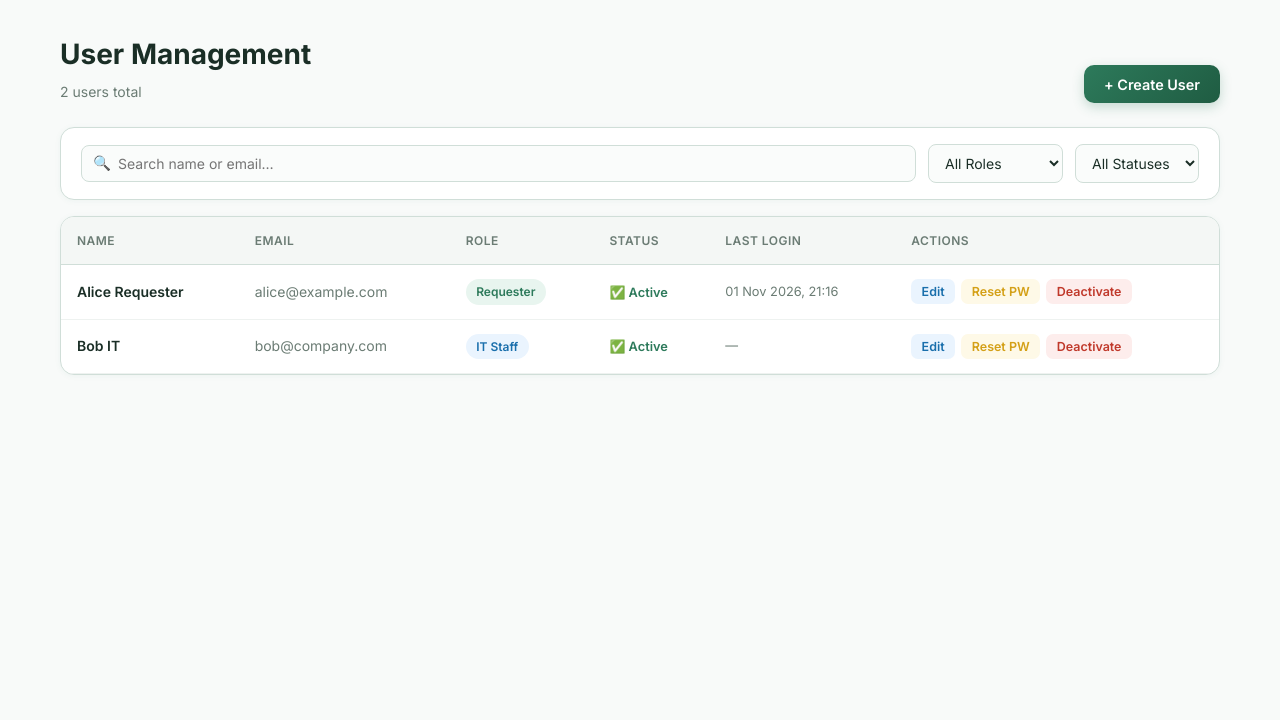
Test: AdminUsersPage (UI-10..UI-12) › UI-11: clicking + Create User opens the modal
Expected: the text "Alice Requester" is shown, [77,282,184,300]
Click the button "+ Create User": (1152,84) [1084,65,1220,103]
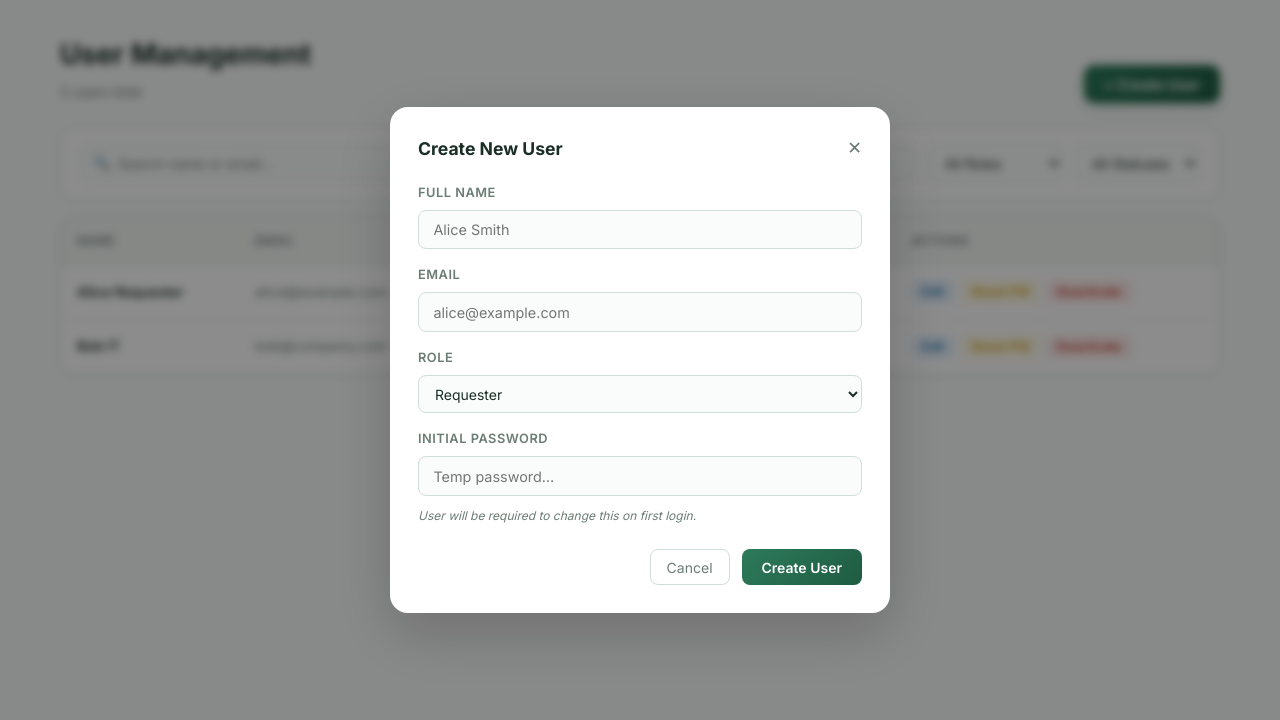
Expected: the heading "Create New User" is shown, [418,135,563,163]
Expected: the field with placeholder "Alice Smith" is shown, [418,210,862,249]
Expected: the field with placeholder "alice@example.com" is shown, [418,292,862,332]
